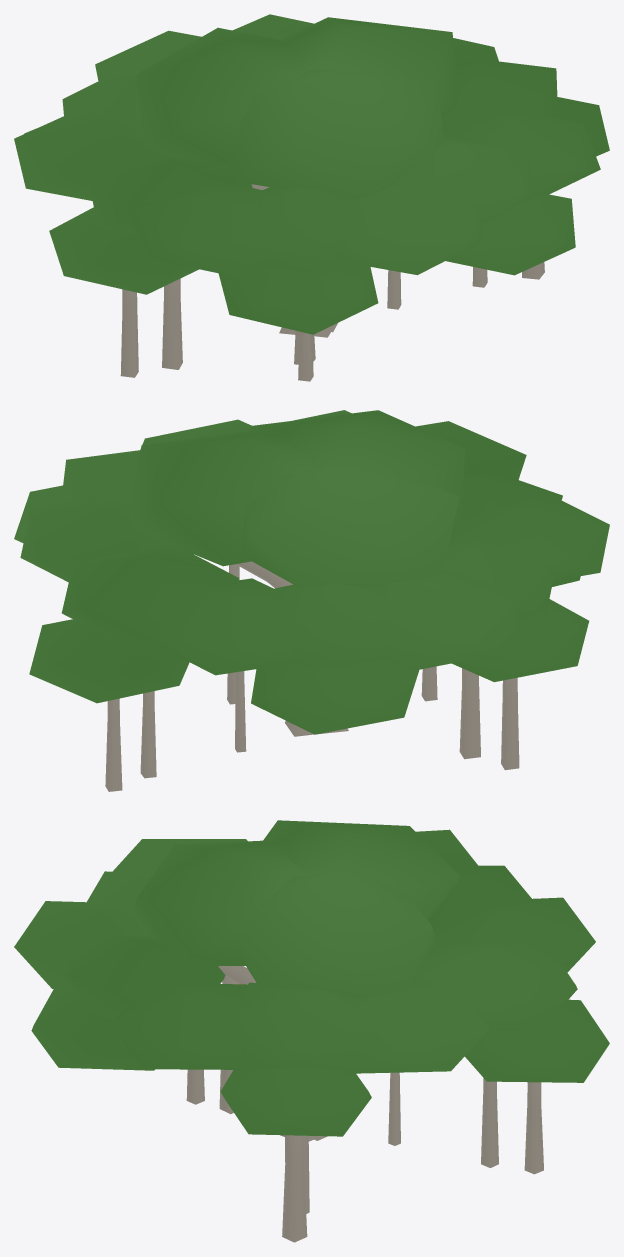
Rendered from Blender_Banyan_1_Far.glb.
3 views of the same model, one above another, from view 1: azimuth 30°, elevation 25°; view 2: azimuth 150°, elevation 25°; view 3: azimuth 270°, elevation 25° (orthographic). The views are drawn at different scales.
Visible parts, largest first — view 1: Blender_Banyan_1_Far; view 2: Blender_Banyan_1_Far; view 3: Blender_Banyan_1_Far.
Part boxes in pixels (x1,y1,x2,y2): Blender_Banyan_1_Far: [14, 14, 609, 381]; Blender_Banyan_1_Far: [14, 410, 609, 791]; Blender_Banyan_1_Far: [14, 820, 609, 1242].
Size of the model in its own units: 33.08 by 16.13 by 31.61.
